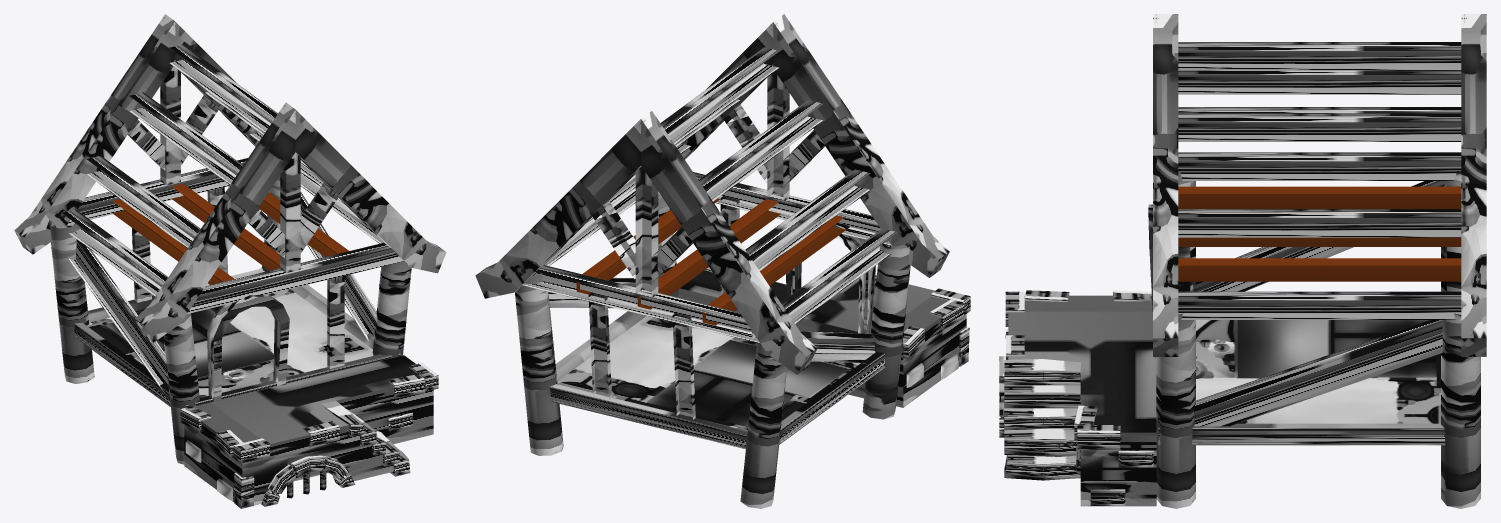
The model's file is VikingHouse_02_XL.fbx.
3 views of the same model, side by side, from view 1: azimuth 30°, elevation 25°; view 2: azimuth 150°, elevation 25°; view 3: azimuth 270°, elevation 25° (orthographic). The views are drawn at different scales.
Visible parts, largest first — view 1: VikingHouse_02_XL; view 2: VikingHouse_02_XL; view 3: VikingHouse_02_XL.
Boxes of the visible parts, x1,y1,x2,y2 form: VikingHouse_02_XL: [14, 14, 446, 508]; VikingHouse_02_XL: [475, 14, 970, 508]; VikingHouse_02_XL: [999, 14, 1486, 508].
Size of the model in its own units: 275 by 291 by 300.
Materials: 2 (2 with a texture image).
